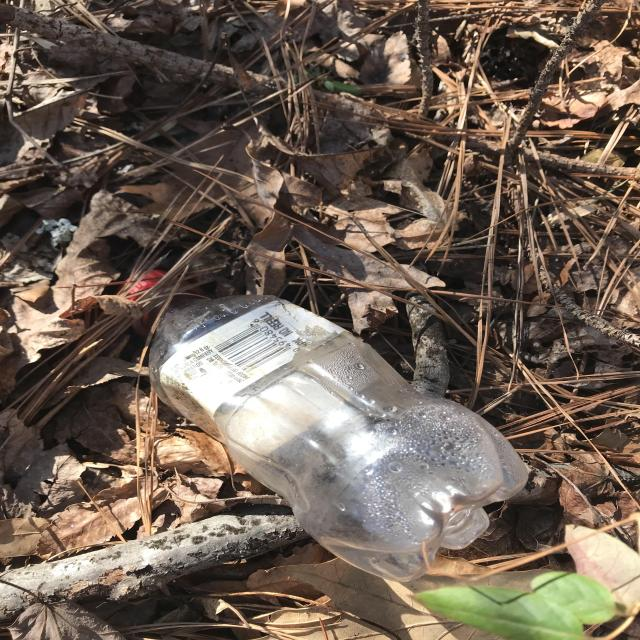litter: (150, 274, 529, 579)
